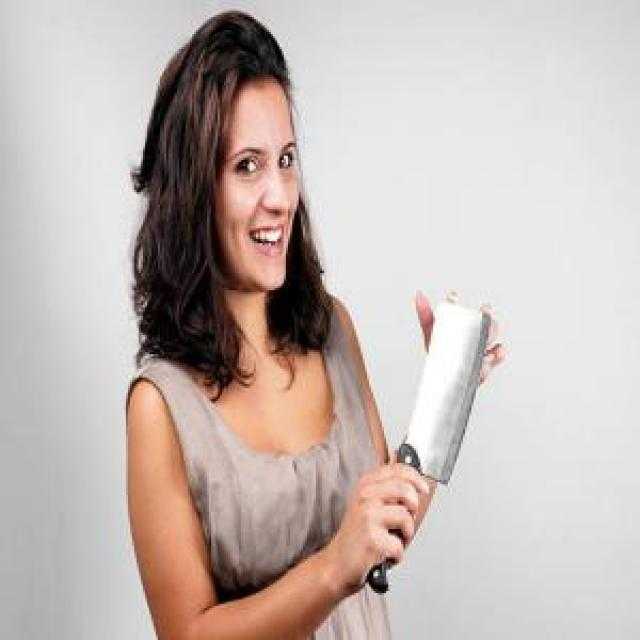knife: (367, 301, 492, 598)
